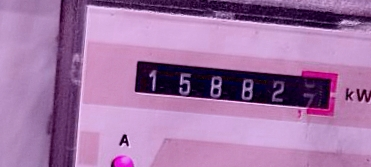1: (146, 66, 160, 93)
2: (269, 78, 287, 104)
5: (176, 70, 193, 97)
7: (300, 90, 316, 108)
8: (207, 73, 226, 99), (239, 76, 256, 102)
screen: (123, 48, 347, 126)
